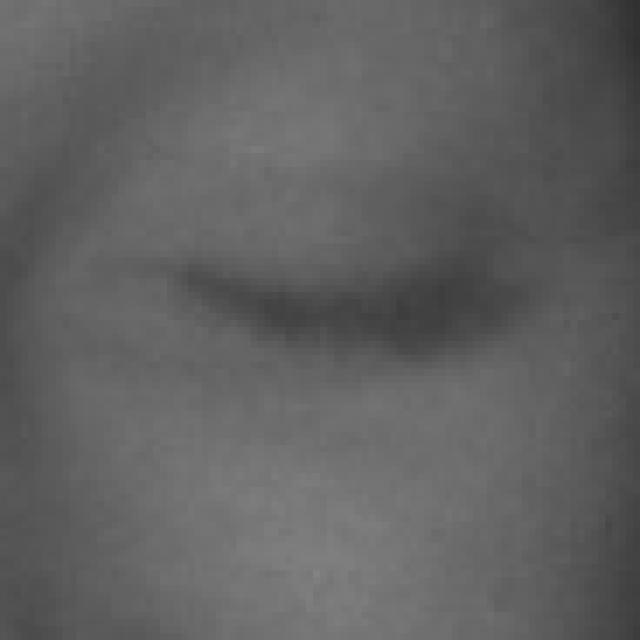Eyeclosed: (165, 129, 517, 506)
